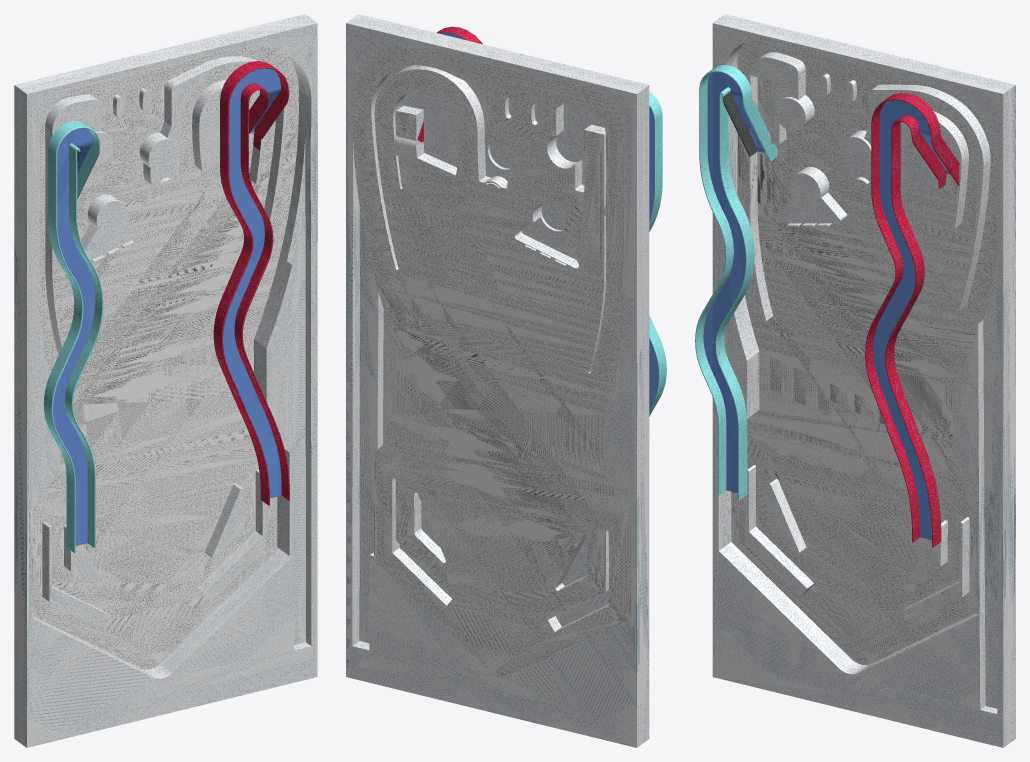
Rendered from upNew.dae.
The picture shows the model from 3 angles, left to right: view 1: azimuth 30°, elevation 25°; view 2: azimuth 150°, elevation 25°; view 3: azimuth 330°, elevation 25°; orthographic projection.
Visible parts, largest first — view 1: SketchUp (×18); view 2: SketchUp (×15); view 3: SketchUp (×19).
Boxes of the visible parts, bbox=[...] form: SketchUp (×18): bbox=[14, 14, 317, 747]; SketchUp (×15): bbox=[346, 14, 666, 747]; SketchUp (×19): bbox=[695, 14, 1015, 747].
Bounding box in the file's own units: 1850 × 384 × 3976.
